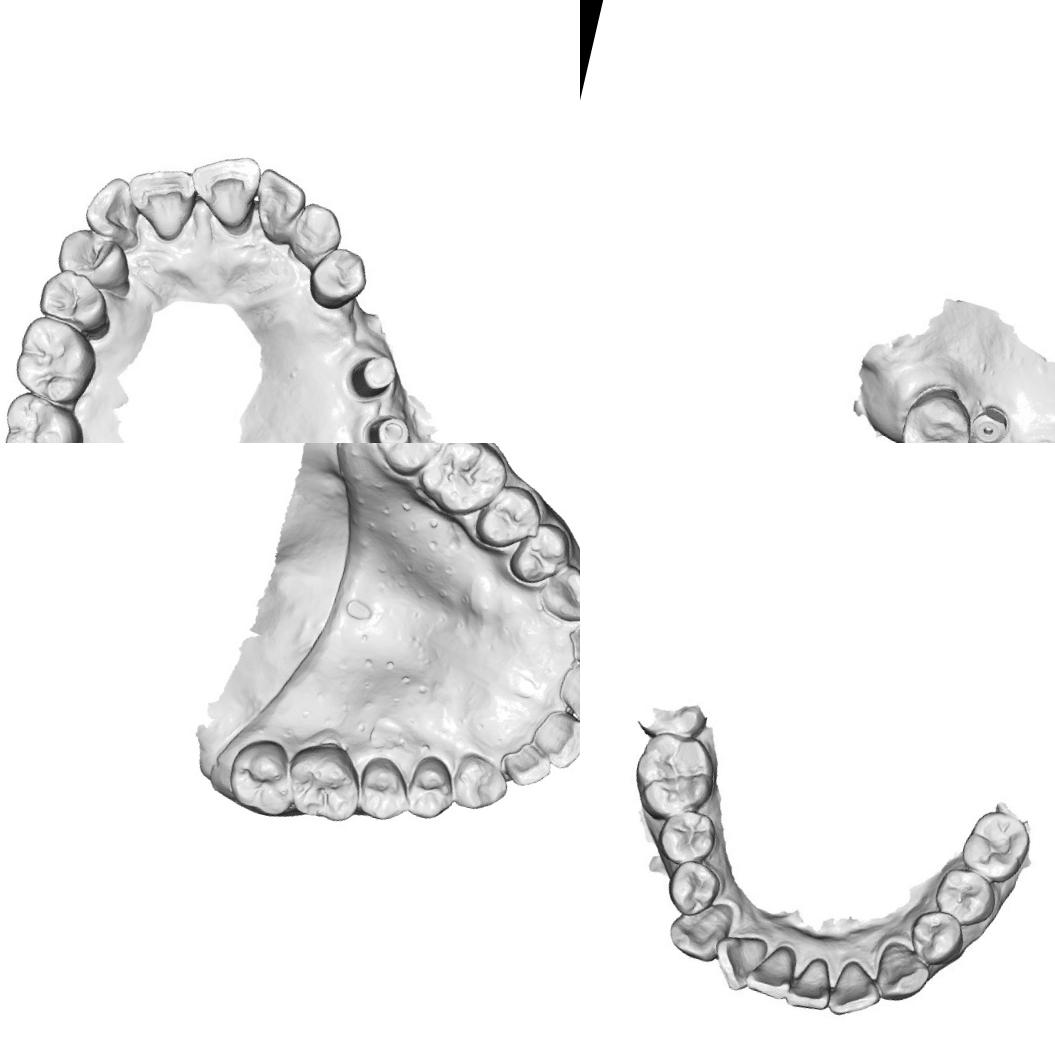abutment: (343, 344, 402, 406), (358, 405, 421, 443)
canine: (663, 894, 732, 966), (869, 938, 936, 1008), (447, 750, 513, 818), (536, 557, 580, 630)
implant: (966, 400, 1010, 443)
incisor: (120, 159, 202, 240), (182, 150, 260, 230), (241, 164, 310, 250), (80, 172, 146, 247), (822, 954, 888, 1026), (527, 705, 580, 775), (782, 954, 839, 1018), (708, 931, 763, 996), (741, 943, 799, 1003), (498, 740, 557, 794), (551, 656, 580, 730), (564, 617, 580, 671)
molar: (625, 726, 725, 829), (9, 312, 102, 416), (411, 443, 515, 528), (281, 735, 370, 827), (219, 730, 305, 822), (955, 804, 1037, 888), (890, 384, 979, 443), (0, 391, 97, 443), (365, 443, 461, 488)
premolar: (470, 477, 548, 557), (36, 266, 117, 340), (504, 514, 578, 592), (55, 226, 136, 294), (282, 194, 350, 272), (651, 802, 724, 874), (303, 243, 374, 315), (350, 752, 416, 826), (928, 862, 1000, 929), (902, 904, 970, 972), (399, 751, 460, 824), (660, 856, 726, 922)
